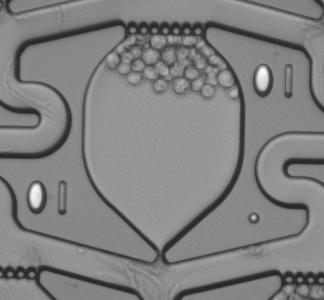AptNum: (247, 56, 299, 104)
Marker: (243, 206, 266, 231)
StNum: (20, 174, 77, 218)
